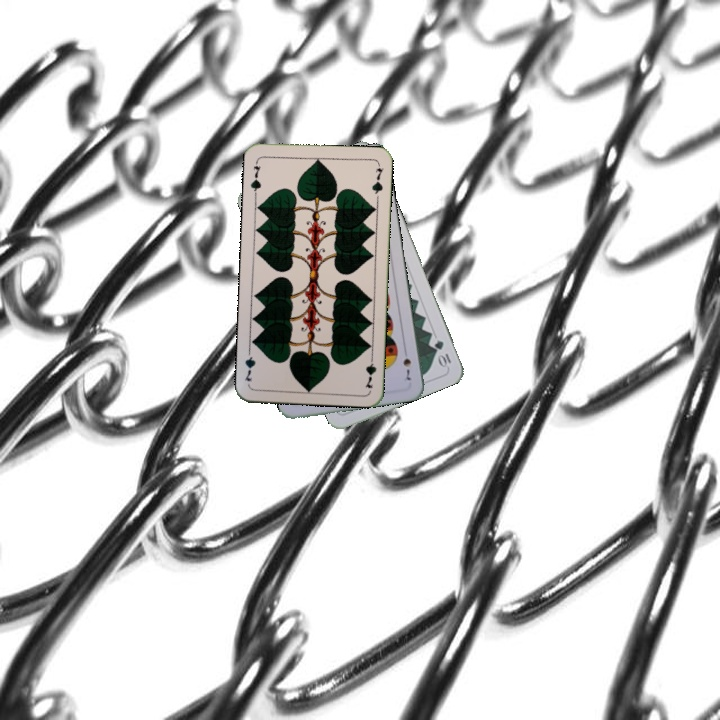G10: (430, 336, 454, 370)
G7: (361, 350, 379, 391), (247, 157, 263, 198)
S7: (399, 344, 414, 383)
